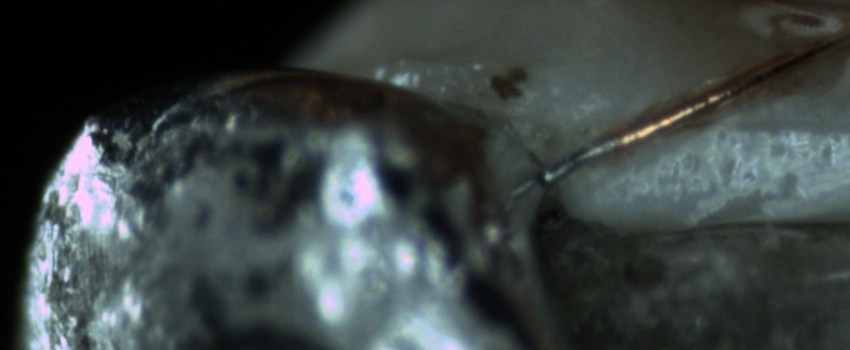DL: (693, 97, 850, 159)
TS: (538, 133, 616, 193)
TTCW: (534, 113, 662, 193)
